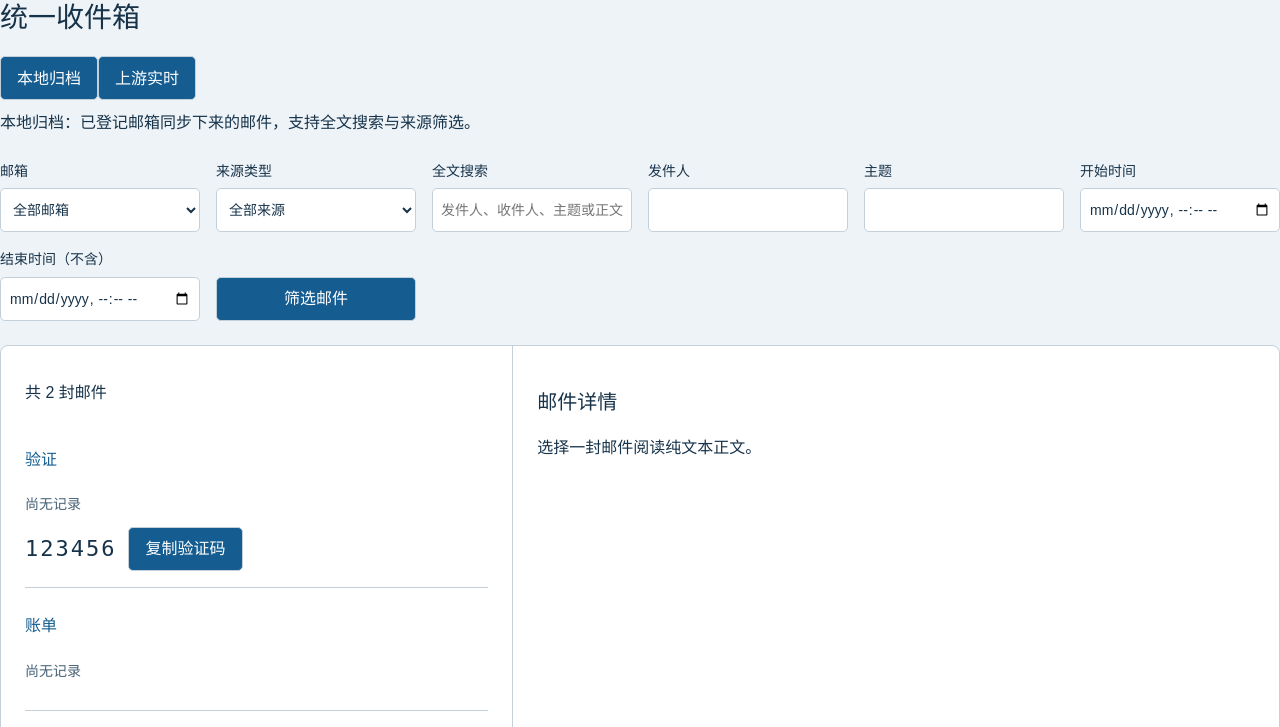
shows code only for an unambiguous message and copies it
Check: the text "123456" is shown, box top-left (25, 531), bottom-right (116, 567)
Click the button "复制验证码" at (186,549), box top-left (128, 527), bottom-right (242, 571)
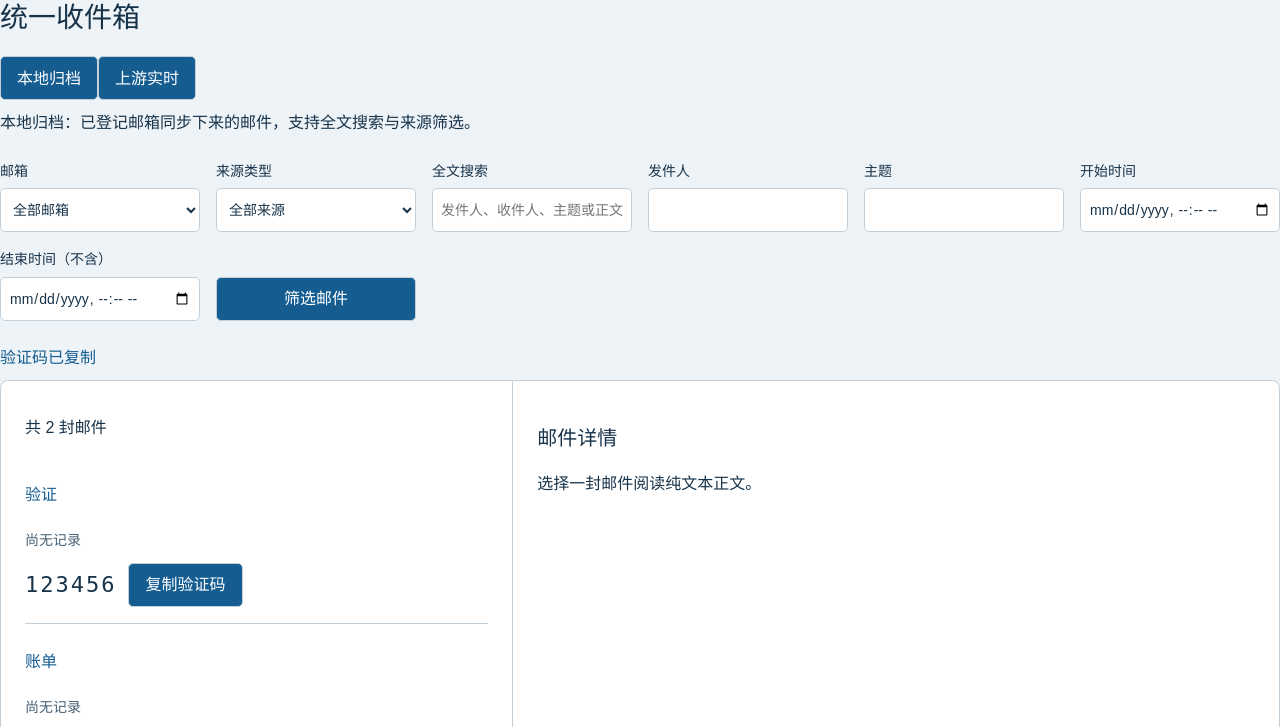
Check: the text "验证码已复制" is shown, box top-left (0, 349), bottom-right (96, 366)
